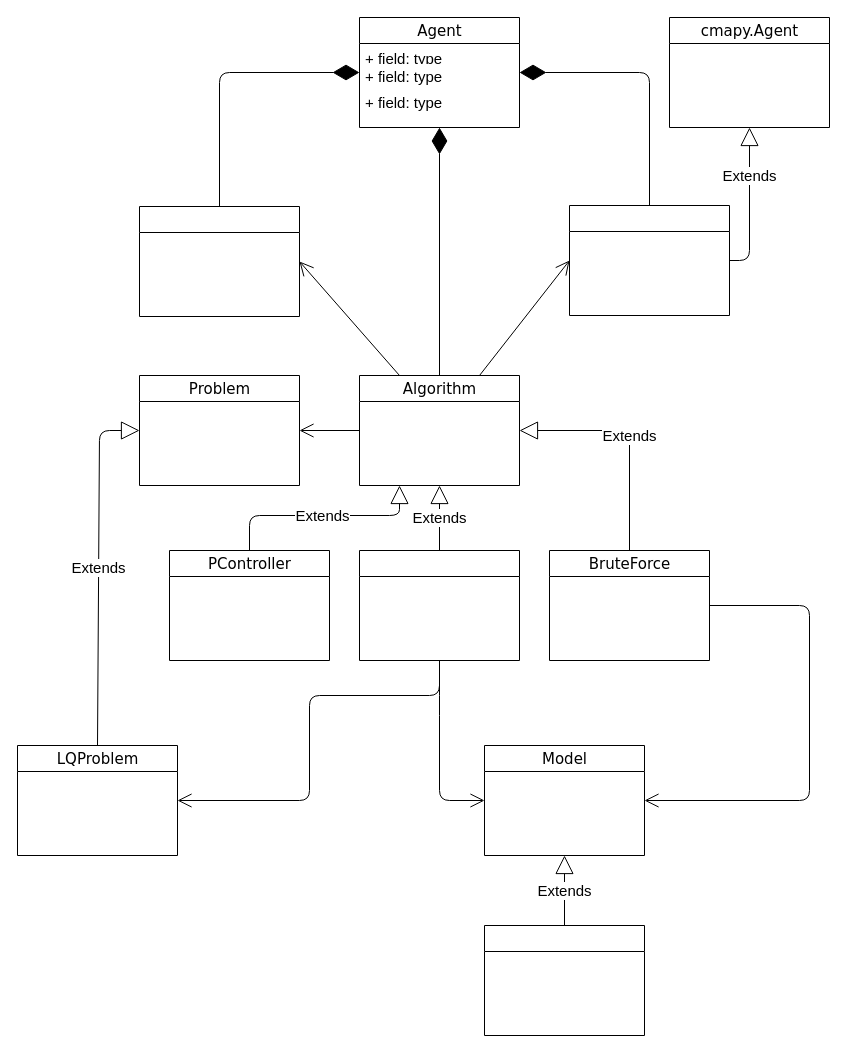
This 847x1053 diagram has some shape labels left out. Here are the shapes that lost their labels. From the top down, the box of each, then its label:
(138, 206, 300, 316): Adjacency
(568, 204, 730, 316): Communicator
(358, 550, 520, 660): QPOptimizer
(484, 924, 644, 1036): LinearStateSpace
